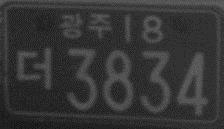1: (122, 12, 132, 43)
3: (64, 46, 97, 113), (139, 47, 171, 115)
4: (175, 50, 209, 116)
8: (101, 49, 133, 113), (142, 13, 163, 44)
광주_O: (60, 11, 112, 40)
더: (14, 46, 54, 92)
